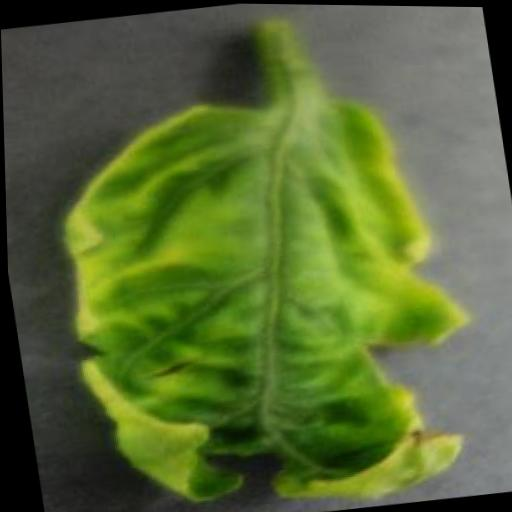Yellow Leaf Curl Virus: (40, 68, 490, 512)
